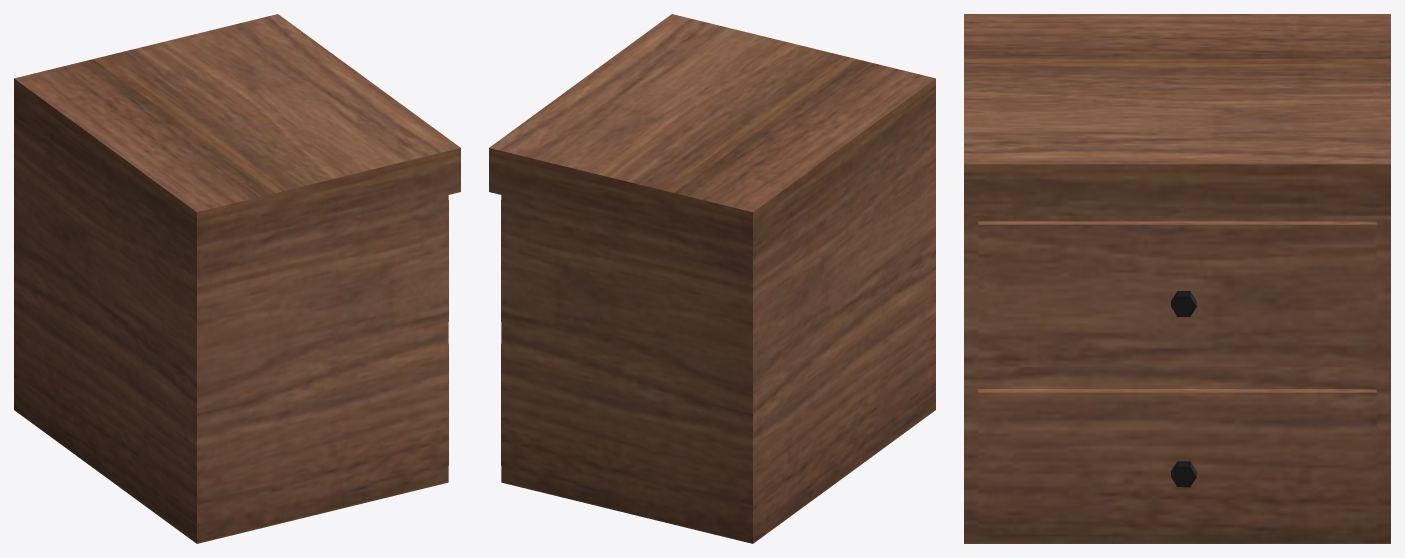
File: NIGHT_TABLE_02.fbx
3 views of the same model, side by side, from view 1: azimuth 30°, elevation 25°; view 2: azimuth 150°, elevation 25°; view 3: azimuth 270°, elevation 25° (orthographic). The views are drawn at different scales.
Parts seen in each view (by area): view 1: NIGHT_TABLE_02; view 2: NIGHT_TABLE_02; view 3: NIGHT_TABLE_02.
Boxes of the visible parts, <box> form: NIGHT_TABLE_02: <box>14,14,460,543</box>; NIGHT_TABLE_02: <box>489,14,935,543</box>; NIGHT_TABLE_02: <box>964,14,1390,543</box>.
Bounding box in the file's own units: 57.47 × 68.07 × 68.07.
